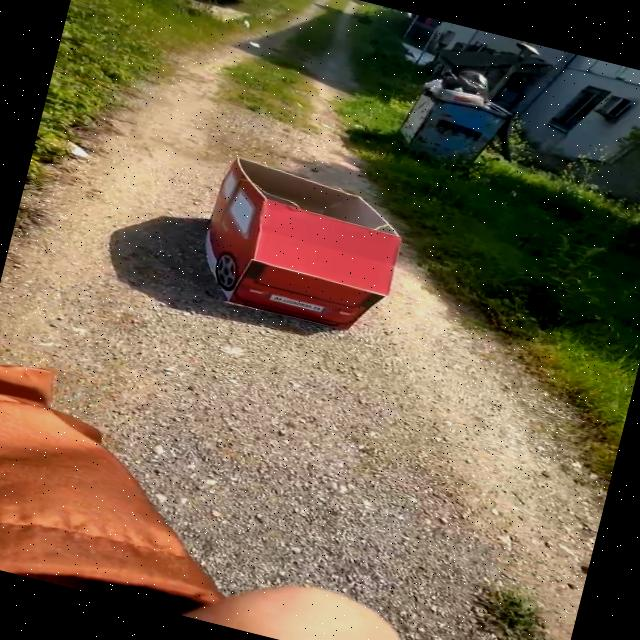red_car: (169, 146, 437, 352)
